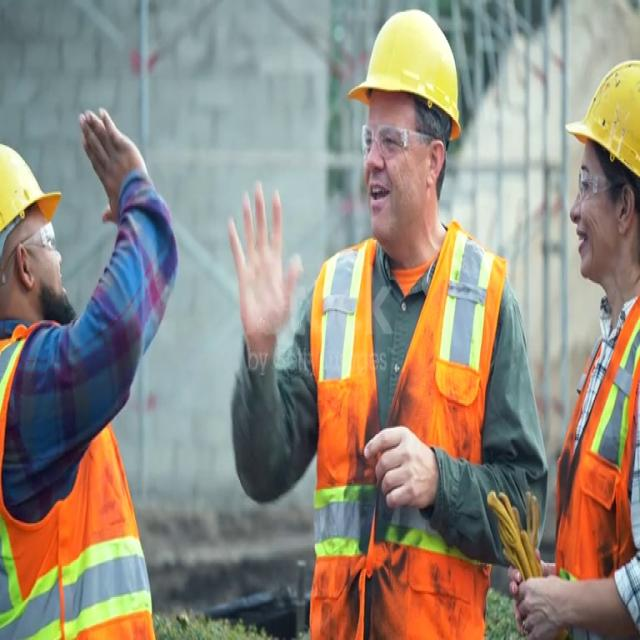capacete: (350, 3, 472, 146), (559, 56, 640, 210), (1, 125, 68, 240)
